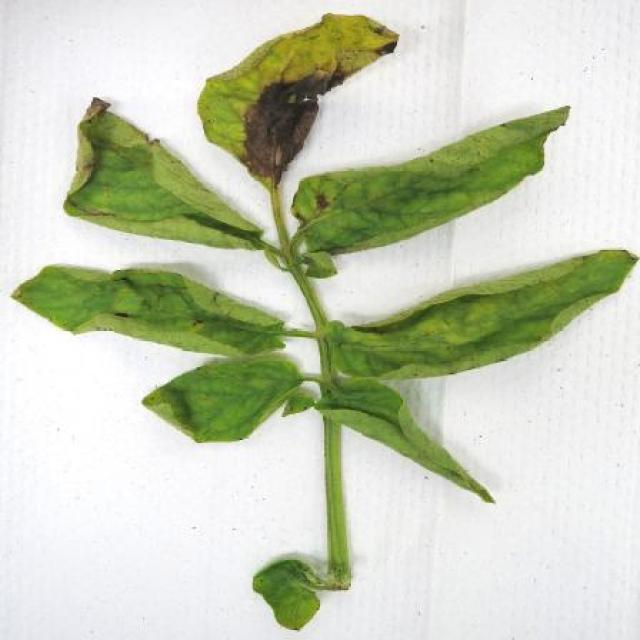Late Blight: (296, 102, 578, 262), (195, 6, 405, 198), (66, 95, 273, 254)
